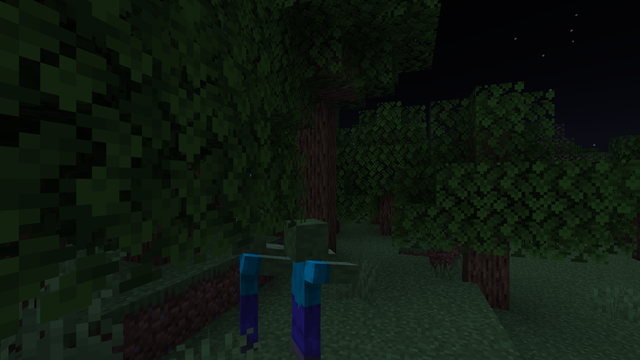zombies: (277, 222, 330, 359), (220, 245, 269, 358)
